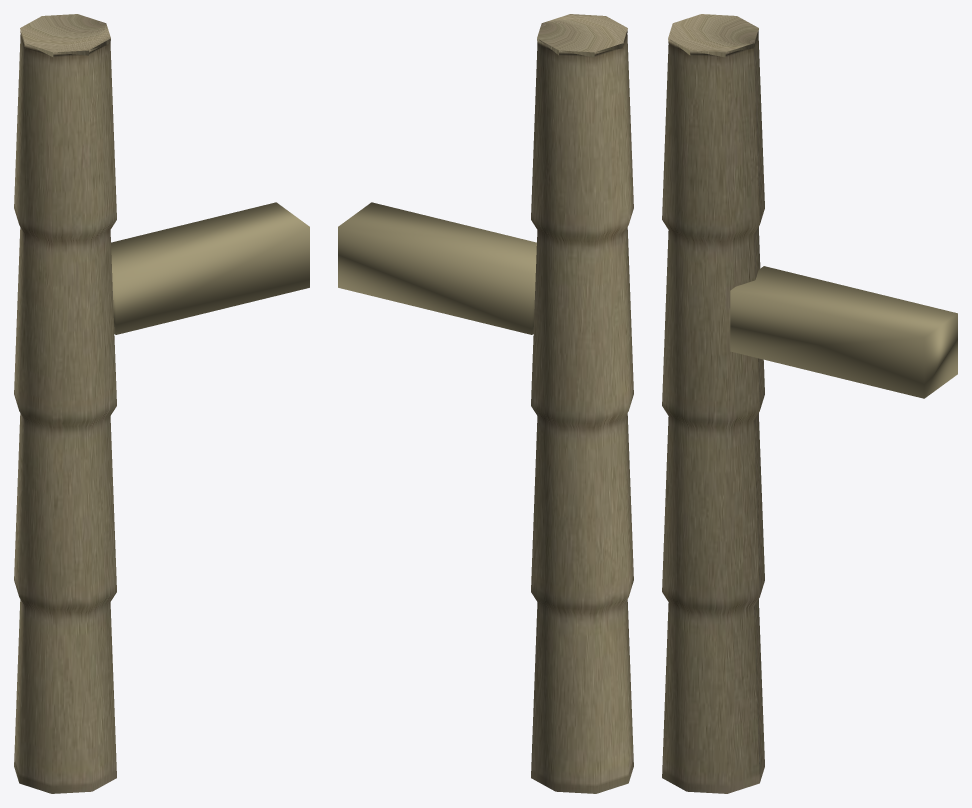
The model's file is turtle-mt-gate-post.glb.
The picture shows the model from 3 angles, left to right: view 1: azimuth 30°, elevation 25°; view 2: azimuth 150°, elevation 25°; view 3: azimuth 330°, elevation 25°; orthographic projection.
Visible parts, largest first — view 1: gate-post; view 2: gate-post; view 3: gate-post.
Boxes of the visible parts, box(x1,y1,x2,y2) form: gate-post: box(14, 14, 309, 793); gate-post: box(338, 14, 633, 793); gate-post: box(662, 14, 957, 793).
Size of the model in its own units: 0.0424 by 0.1092 by 0.0143.
1 material, 1 textured.
